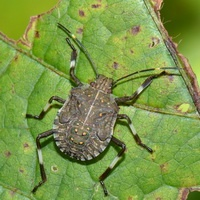insect: (26, 24, 190, 199)
